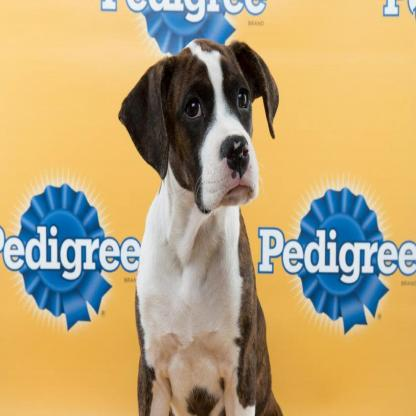Labarador Retriever: (116, 39, 283, 416)
